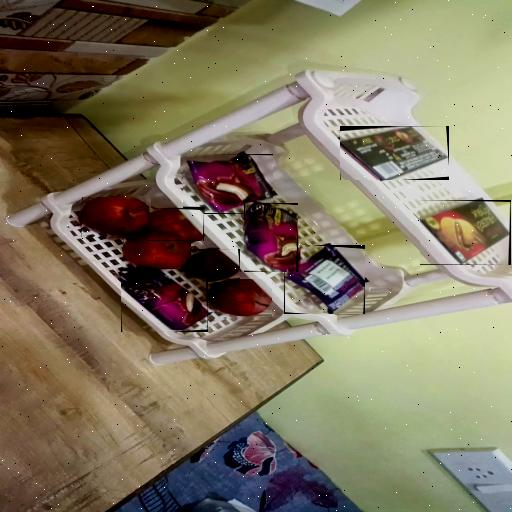Apple: (80, 198, 150, 238), (123, 228, 191, 269), (206, 280, 272, 320), (183, 249, 240, 282), (148, 208, 204, 241)
Choco Fills: (420, 200, 511, 265), (340, 126, 449, 180)
Choco Pie: (284, 245, 365, 314), (121, 268, 208, 332), (182, 154, 272, 214), (244, 203, 298, 272)
